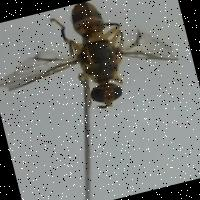Oriental-fruit-fly: (0, 0, 194, 142)
